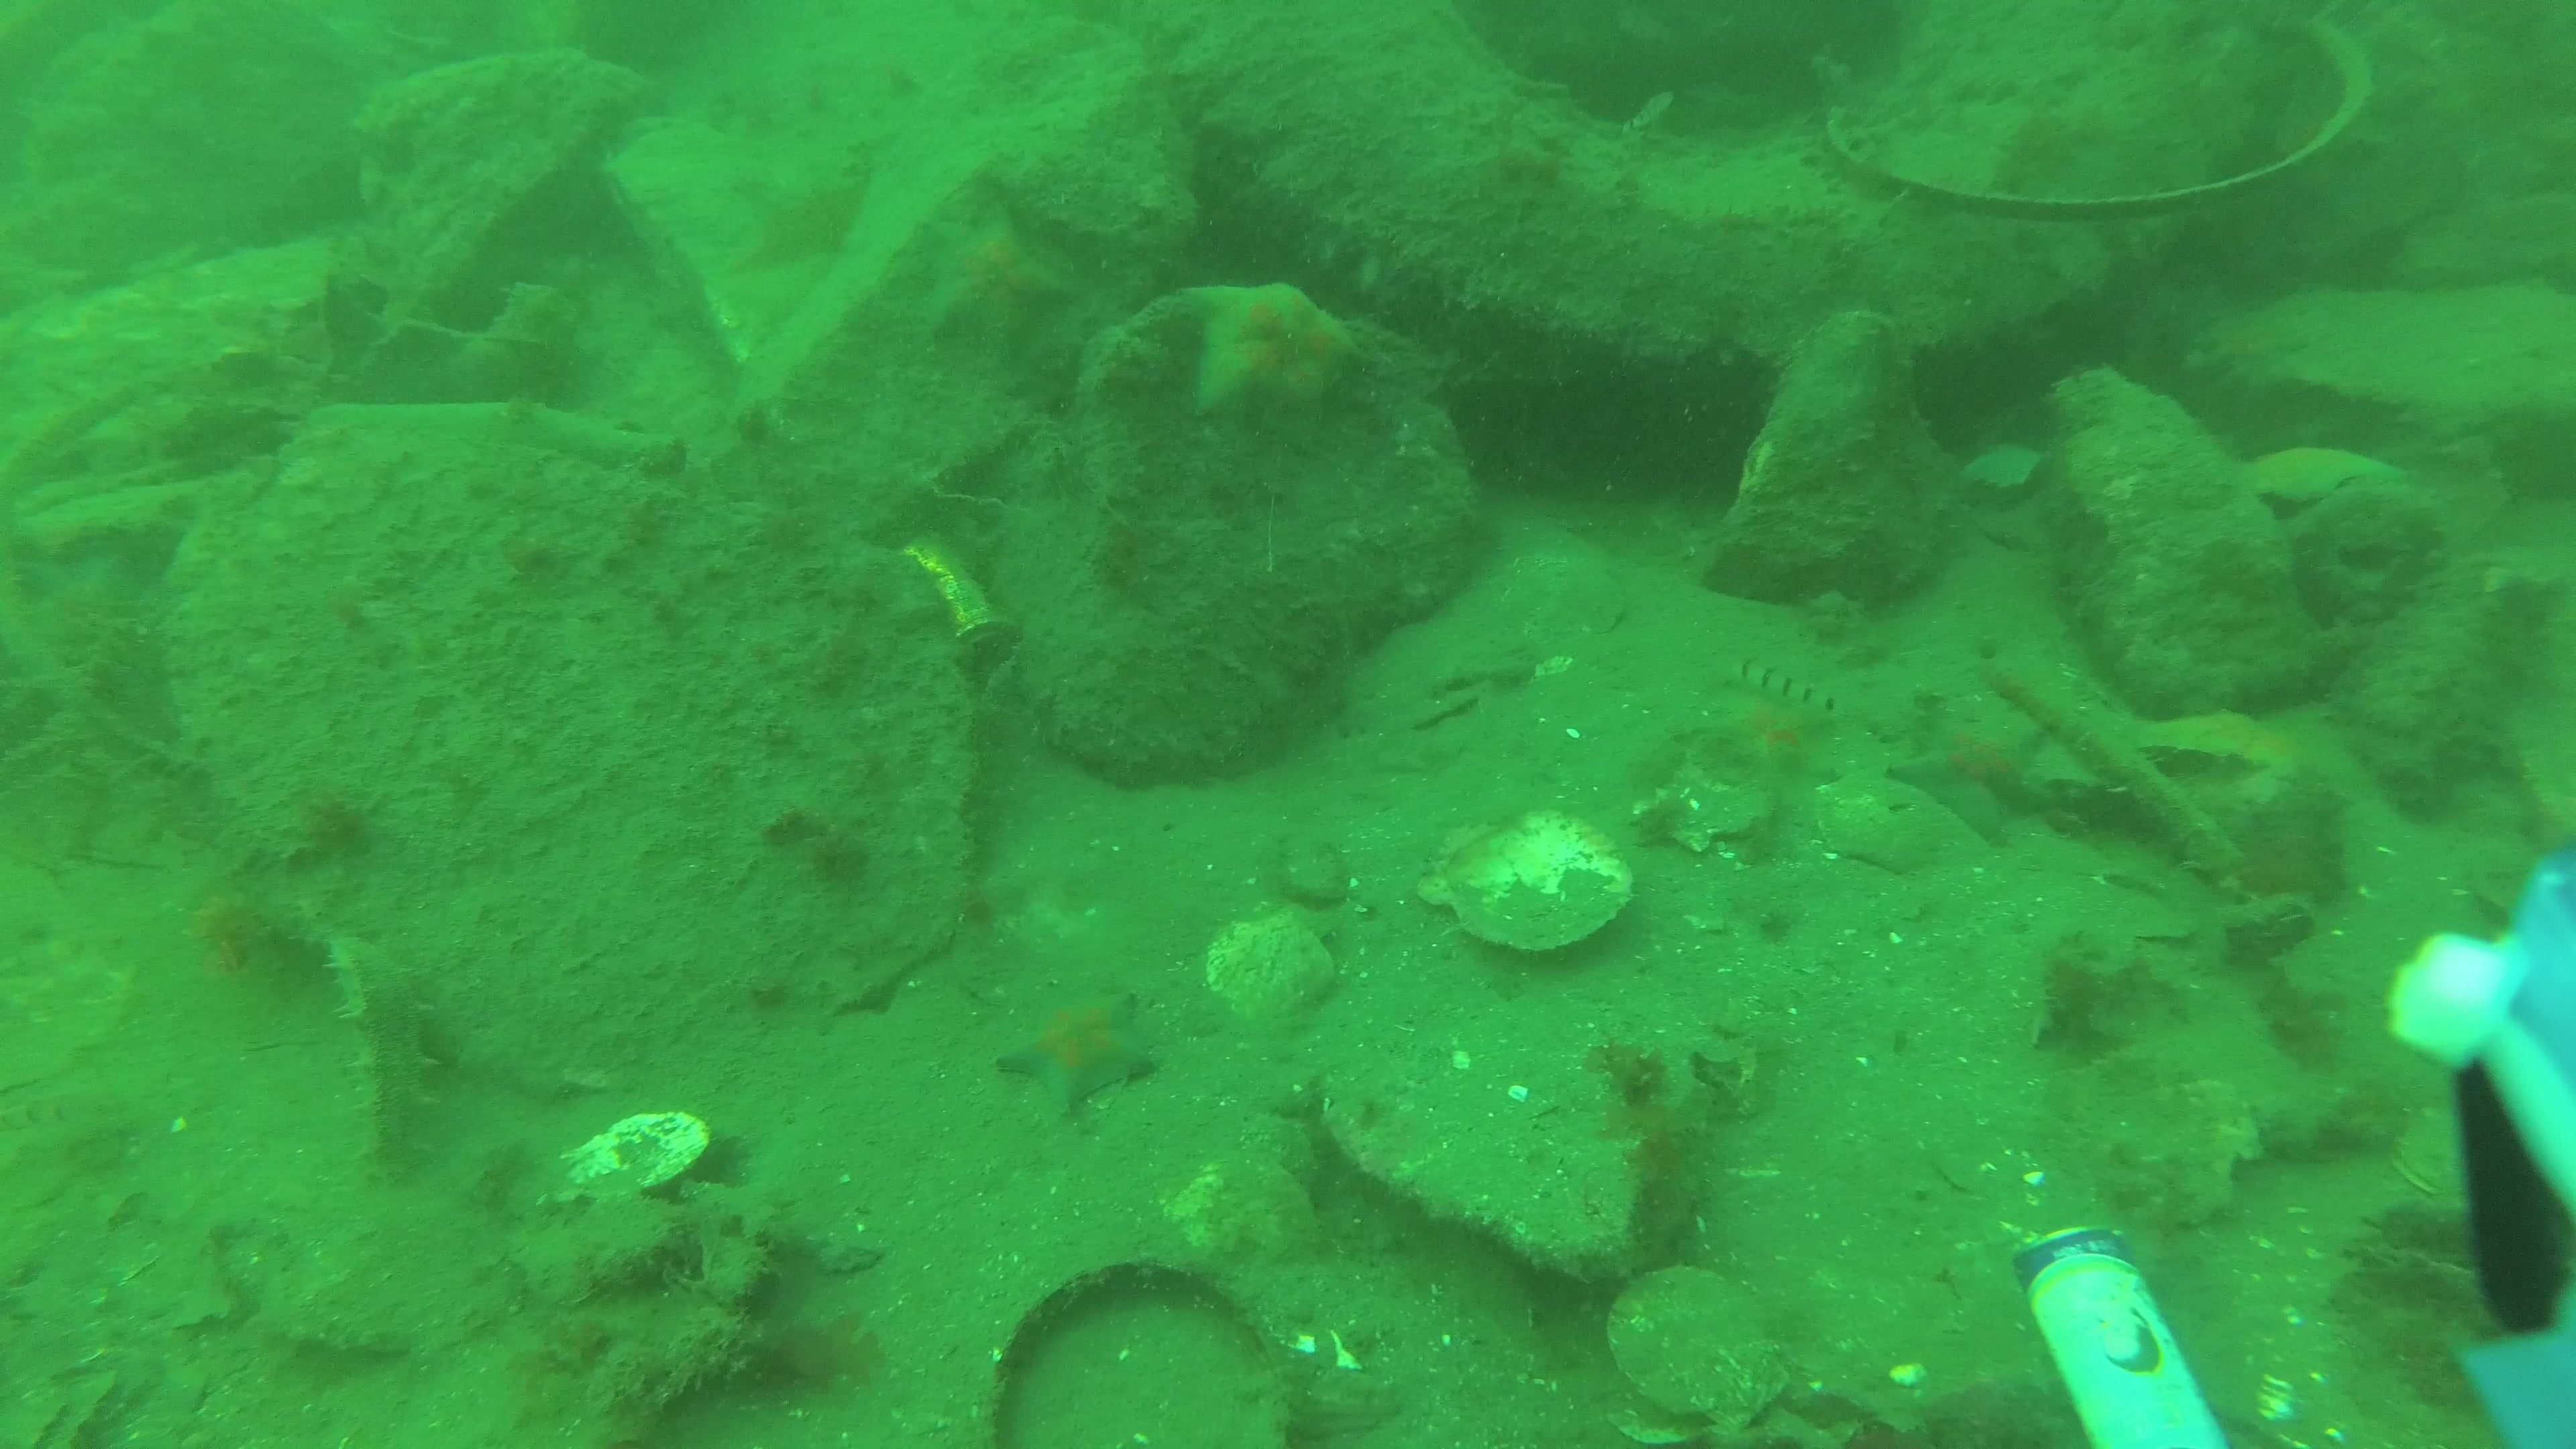holothurian: (322, 931, 441, 1180)
scallop: (1405, 798, 1631, 955), (1605, 1270, 1796, 1438), (1169, 1159, 1329, 1277), (557, 1108, 713, 1208), (1205, 911, 1332, 1028)
starfish: (1178, 280, 1357, 419), (916, 203, 1069, 359), (1879, 683, 2051, 819), (996, 987, 1161, 1111), (2137, 709, 2289, 768), (2247, 448, 2385, 504)
